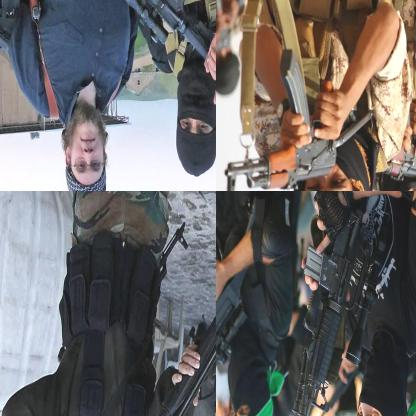rifle: (87, 209, 215, 415), (218, 50, 379, 190), (287, 201, 379, 415), (62, 0, 211, 63)
